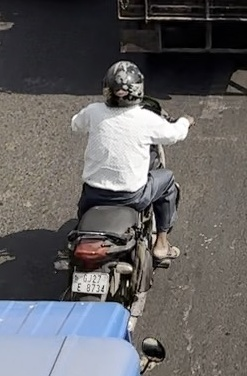BikeWithRider: (47, 55, 197, 328)
Helmet: (97, 56, 147, 110)
